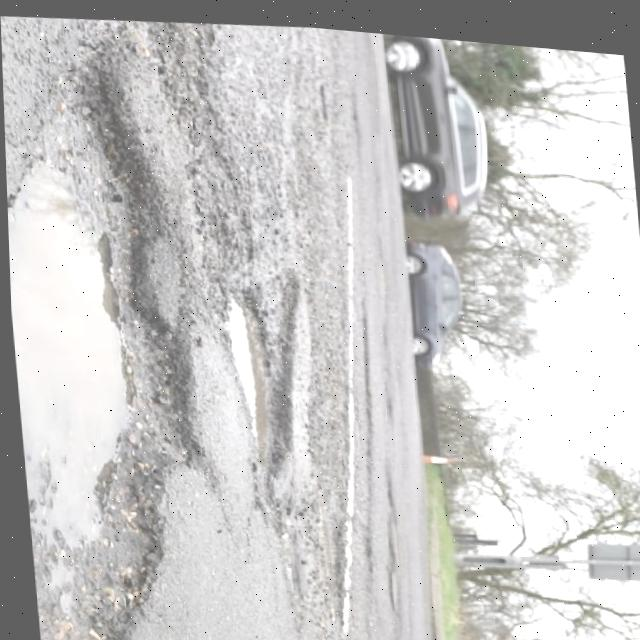Pothole: (2, 60, 212, 640), (203, 265, 331, 460)
